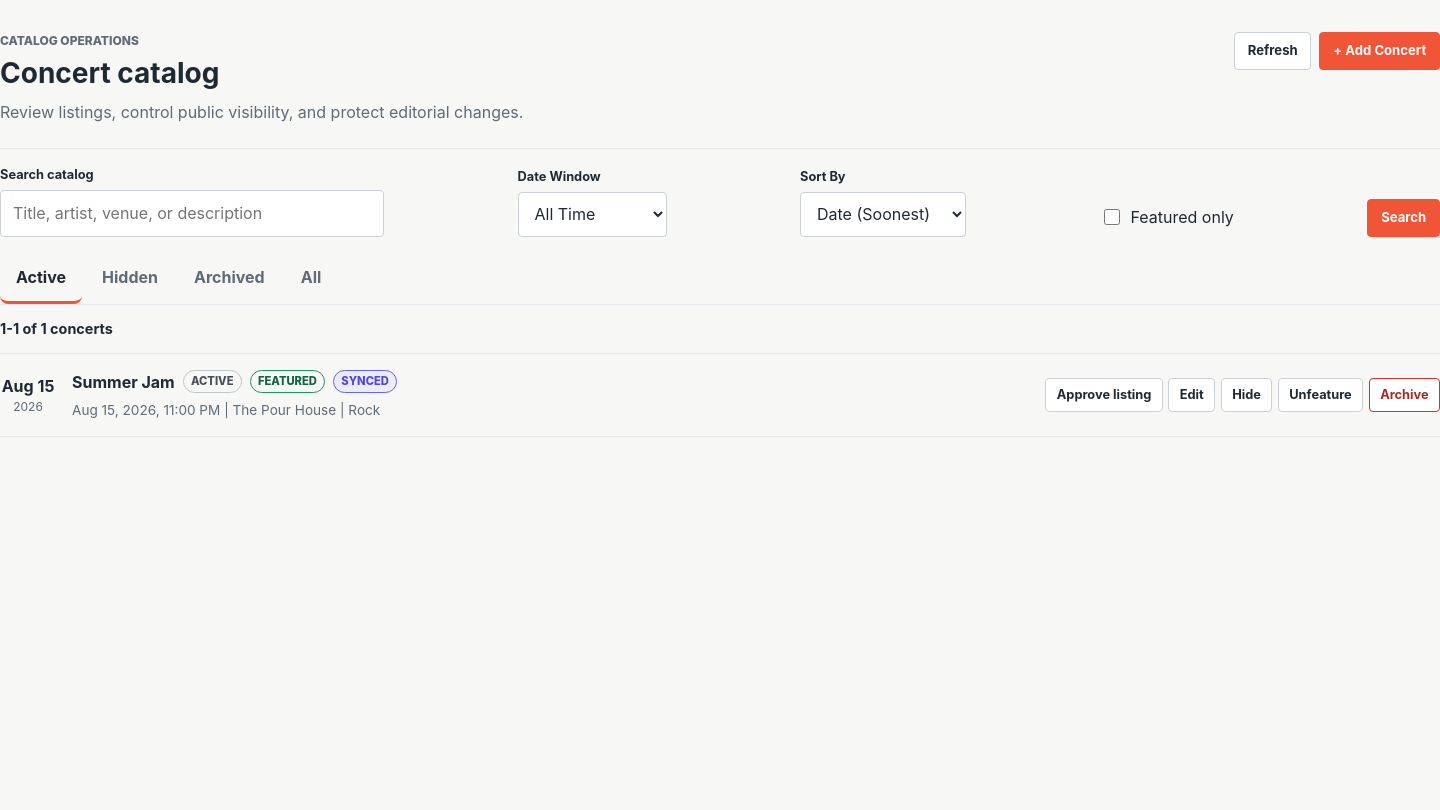
AdminConcertsPage › closes a stale editor and keeps the conflict guidance visible
Click the button "Edit": (1192, 395) [1168,378,1215,412]
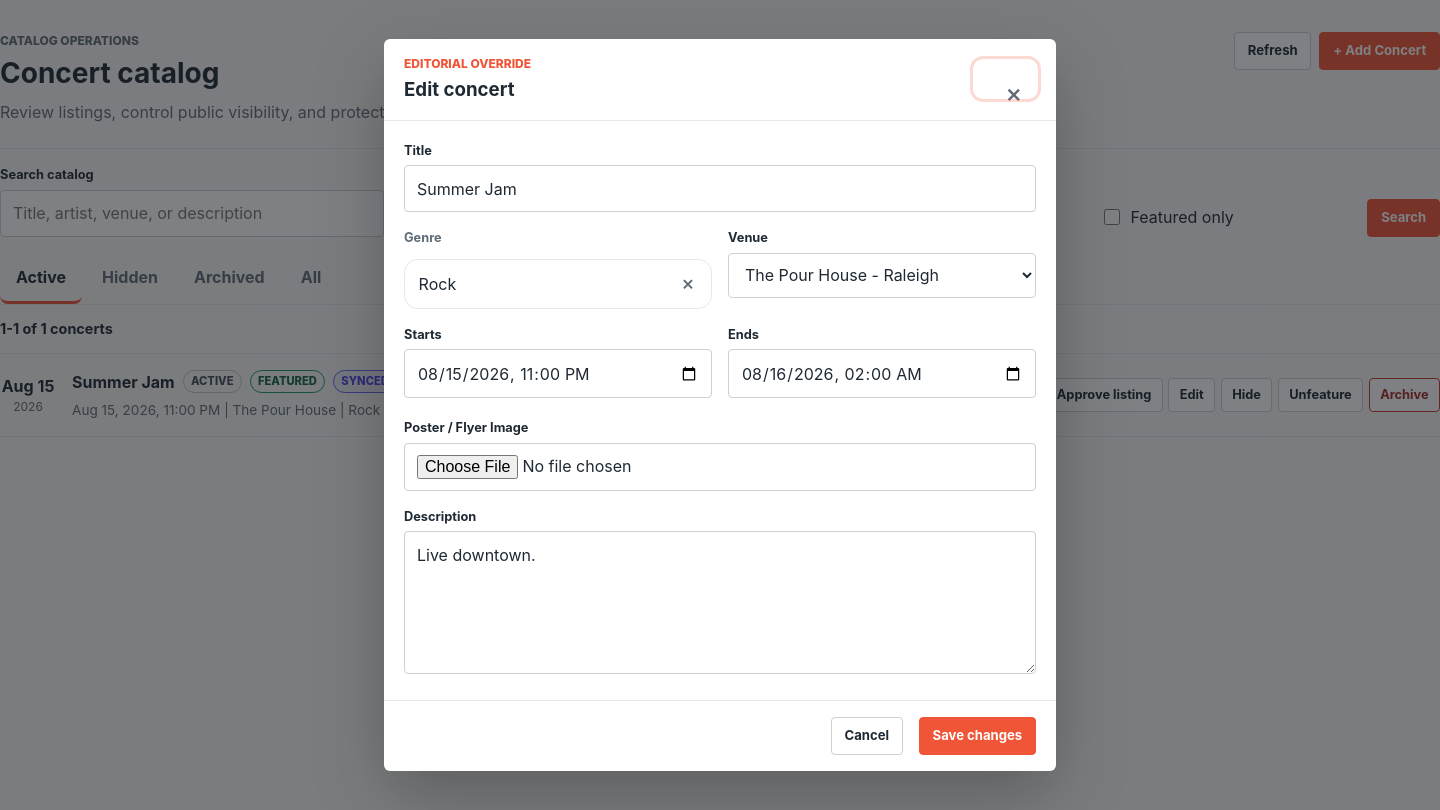
Submit the dialog with class "editor", box [384,39,1056,771]
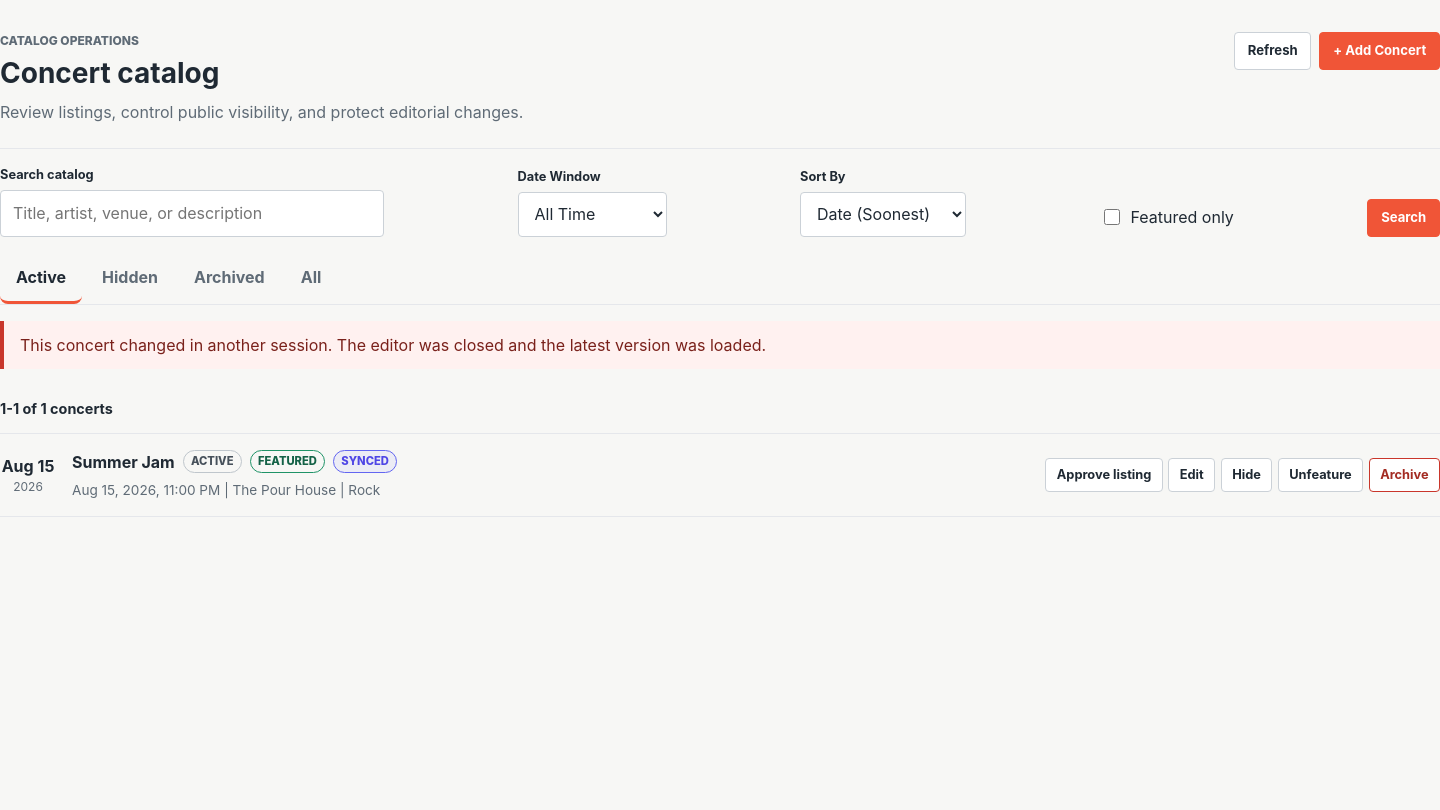
expect the message shows "editor was closed and the latest version was loaded": met, box [20,334,766,354]
